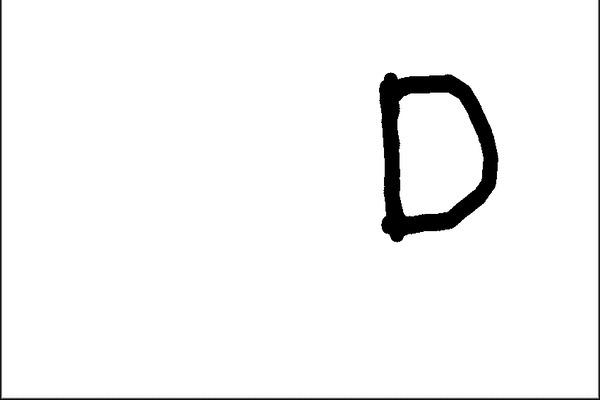D: (370, 64, 505, 251)
